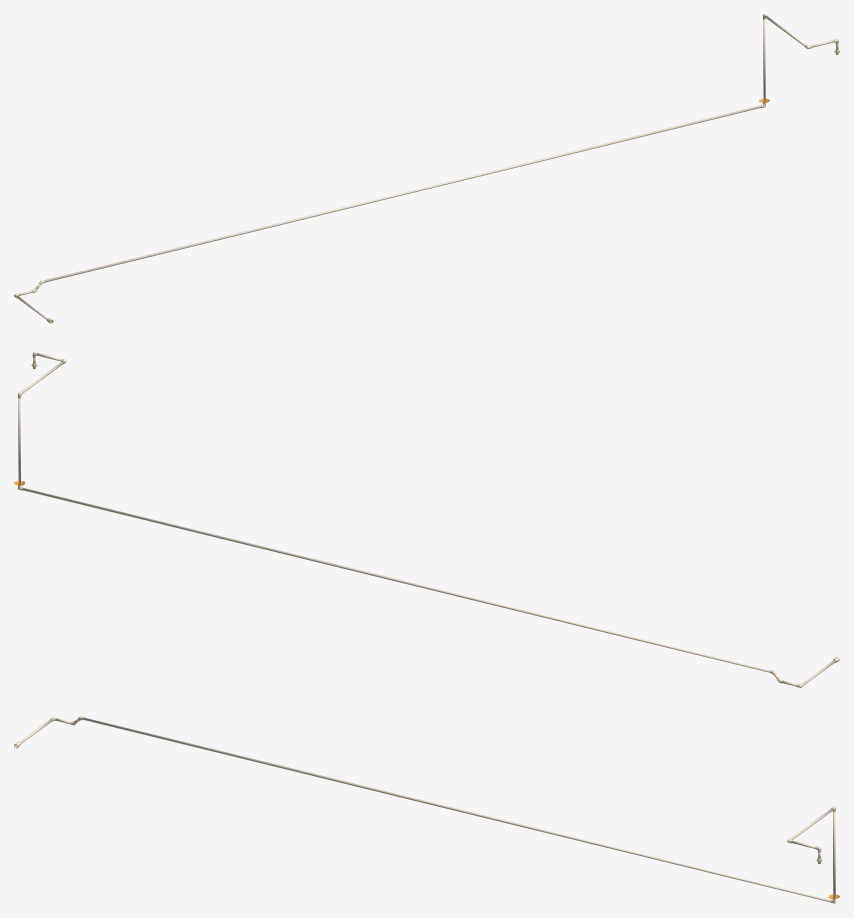
File: pipes_supply__water-city_filter_and_softener-yes_and_plumbing-cpvc.glb
The picture shows the model from 3 angles, top to bottom: view 1: azimuth 30°, elevation 25°; view 2: azimuth 150°, elevation 25°; view 3: azimuth 330°, elevation 25°; orthographic projection. The views are drawn at different scales.
Visible parts, largest first — view 1: pipe_supply_to_softener; view 2: pipe_supply_to_softener; view 3: pipe_supply_to_softener.
Part boxes in pixels (x1,y1,x2,y2): pipe_supply_to_softener: (16,16,838,319); pipe_supply_to_softener: (18,353,835,686); pipe_supply_to_softener: (19,717,835,901).
Bounding box in the file's own units: 8.08 × 0.9946 × 0.8484.
